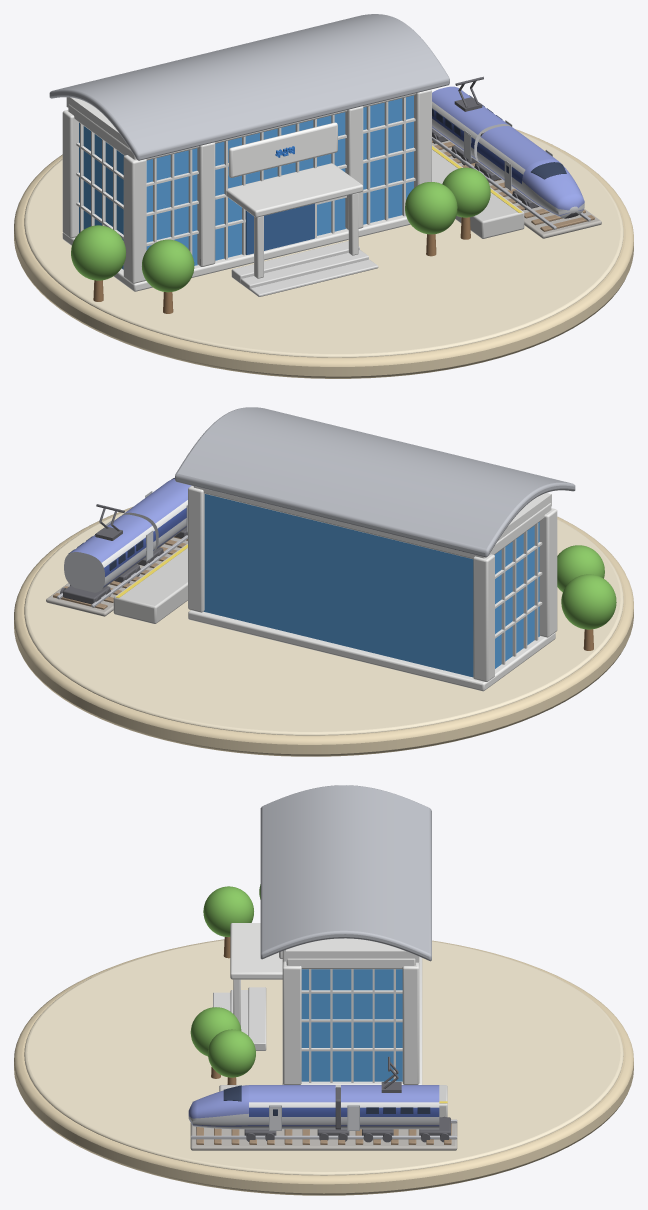
Rendered from busanstation.glb.
The picture shows the model from 3 angles, top to bottom: view 1: azimuth 30°, elevation 25°; view 2: azimuth 150°, elevation 25°; view 3: azimuth 270°, elevation 25°; orthographic projection. The views are drawn at different scales.
Visible parts, largest first — view 1: Base_Top, Roof, Base, Bldg_Glass, Train1, Canopy, Sign_Panel, Pillar0, Bldg_Plinth, Train2, Tree0_Crown, Pillar1 (+21 smaller); view 2: Base_Top, Bldg_Glass, Roof, Base, Bldg_Plinth, Train2, Platform, PillarBack0, Tree0_Crown, Train1, Pillar0, Top_Beam (+9 smaller); view 3: Base_Top, Roof, Base, Bldg_Glass, Train1, Train2, Track_Ballast, Pillar3, Canopy, PillarBack1, Roof_Soffit, Tree3_Crown (+6 smaller).
Part boxes in pixels (<box>): Base_Top: <box>24,132,623,357</box>; Roof: <box>49,14,449,160</box>; Base: <box>14,129,633,378</box>; Bldg_Glass: <box>79,95,413,269</box>; Train1: <box>477,126,584,218</box>; Canopy: <box>226,163,363,217</box>; Sign_Panel: <box>228,122,337,177</box>; Pillar0: <box>123,155,146,283</box>; Bldg_Plinth: <box>62,215,410,291</box>; Train2: <box>432,86,511,162</box>; Tree0_Crown: <box>71,225,126,280</box>; Pillar1: <box>197,142,215,266</box>; Base_Top: <box>24,510,623,735</box>; Bldg_Glass: <box>204,494,539,677</box>; Roof: <box>175,407,575,557</box>; Base: <box>14,507,633,756</box>; Bldg_Plinth: <box>188,610,555,691</box>; Train2: <box>64,514,155,592</box>; Platform: <box>113,543,187,623</box>; PillarBack0: <box>473,554,494,681</box>; Tree0_Crown: <box>561,574,616,629</box>; Train1: <box>122,478,190,551</box>; Pillar0: <box>539,508,557,637</box>; Top_Beam: <box>193,486,551,558</box>; Base_Top: <box>24,940,623,1175</box>; Roof: <box>260,785,431,961</box>; Base: <box>14,939,633,1195</box>; Bldg_Glass: <box>301,969,402,1081</box>; Train1: <box>188,1085,335,1129</box>; Train2: <box>341,1085,439,1129</box>; Track_Ballast: <box>190,1123,457,1150</box>; Pillar3: <box>282,961,301,1084</box>; Canopy: <box>230,923,282,979</box>; PillarBack1: <box>402,962,419,1084</box>; Roof_Soffit: <box>286,938,419,962</box>; Tree3_Crown: <box>208,1029,255,1077</box>.
Size of the model in its own units: 9.37 by 3.23 by 9.77.
